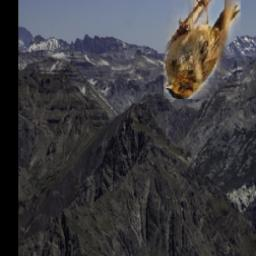Sparrow: (164, 0, 241, 100)
